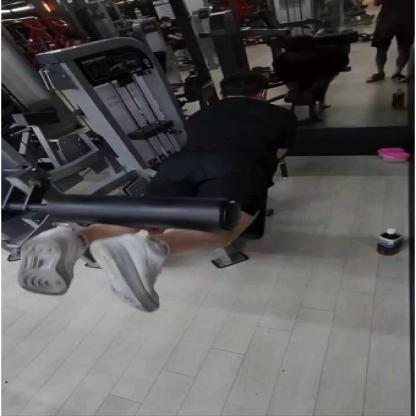reg curl machine: (0, 29, 309, 321)
